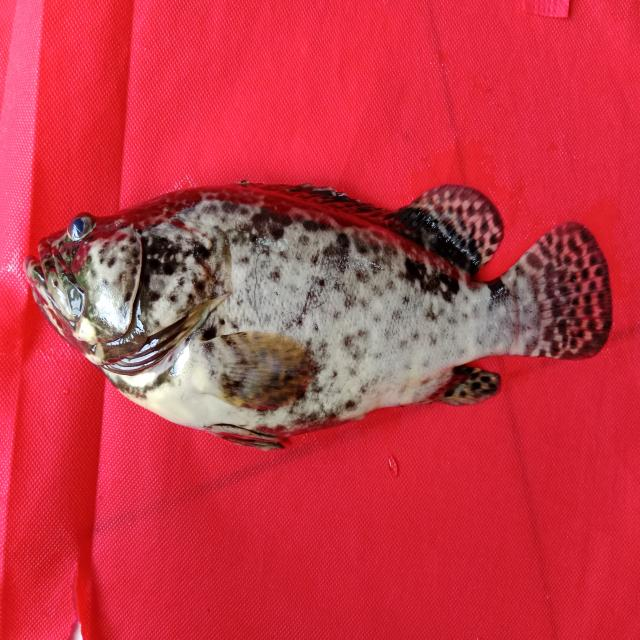ikan: (30, 173, 596, 458)
